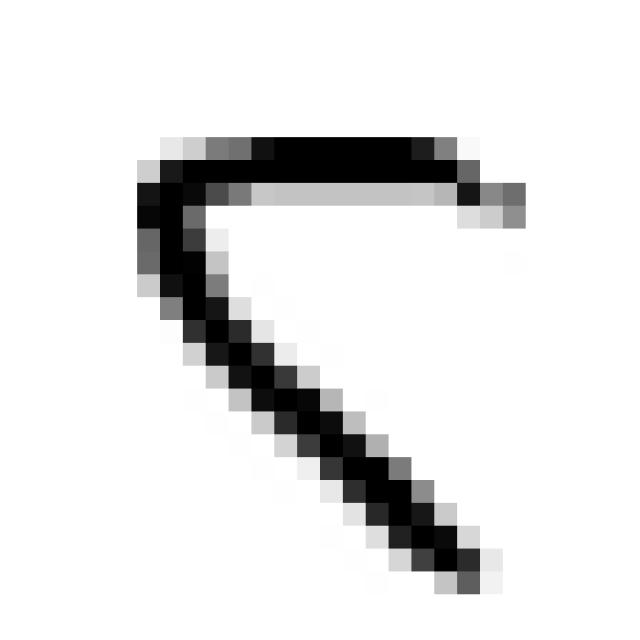2 -two-: (114, 110, 547, 612)
